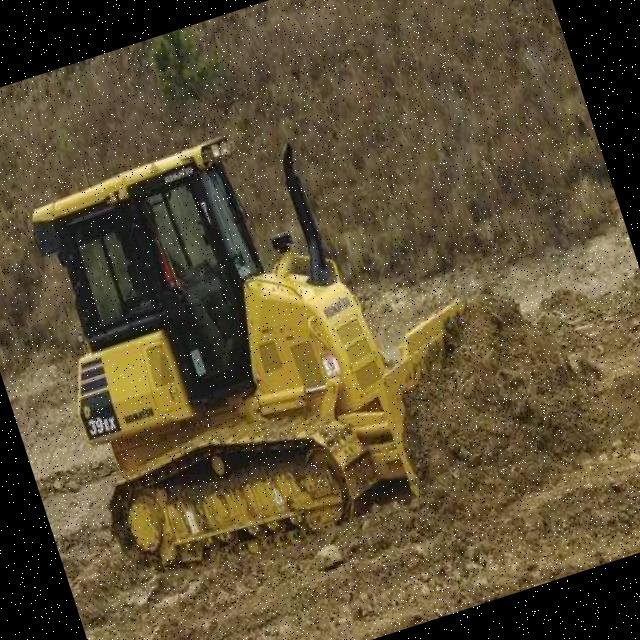Bulldozer: (0, 25, 606, 636)
